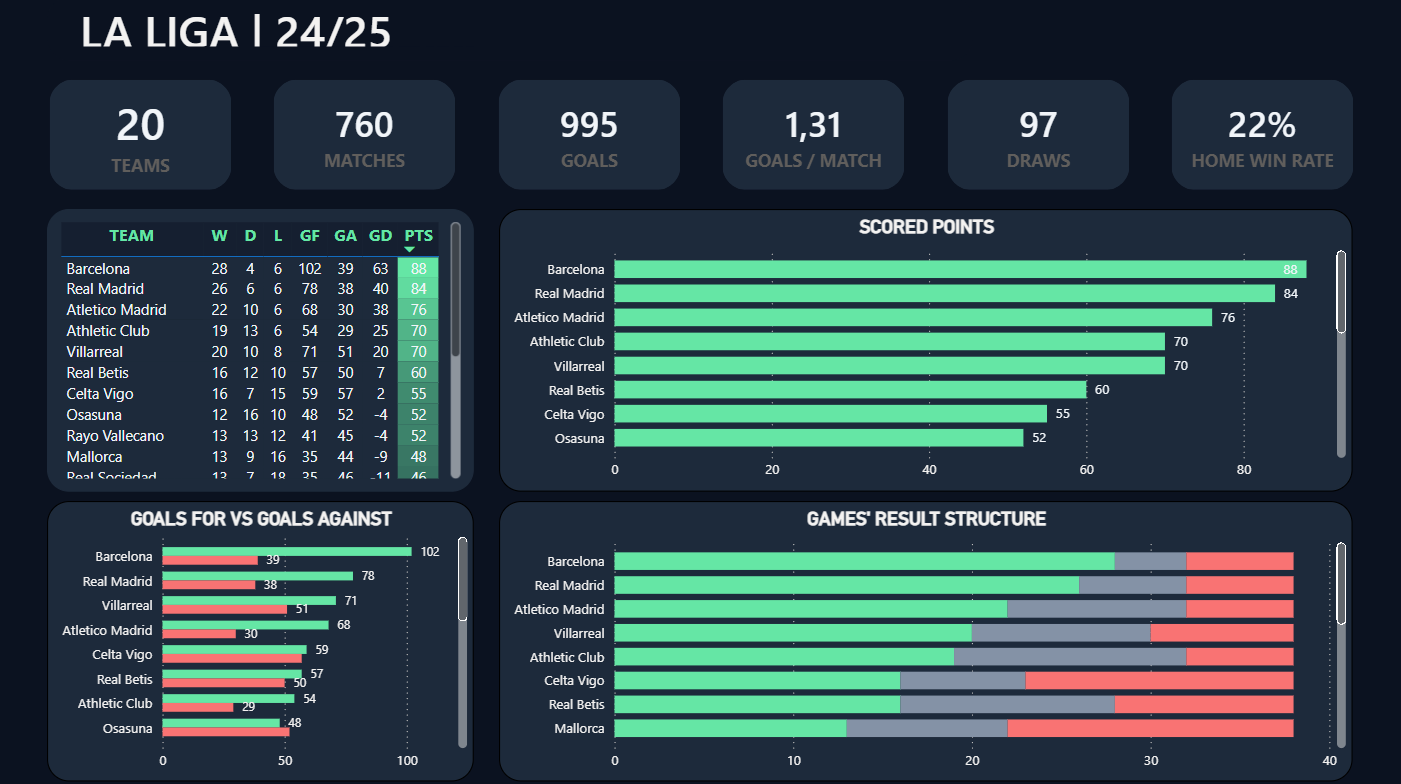

This screenshot's page, from the dashboard's own definition file:
{"tool":"powerbi","page":{"name":"League Overview","canvas":[1280,720],"ordinal":0},"visuals":[{"type":"cardVisual","fields":{"Data":["Miary.Total Teams"]},"box":[30.5,58.4,199.1,134.1],"z":0},{"type":"cardVisual","fields":{"Data":["Miary.Matches Played"]},"box":[234.7,58.4,199.1,134.1],"z":1000},{"type":"cardVisual","fields":{"Data":["Miary.Total Goals"]},"box":[438.8,58.4,199.1,134.1],"z":2000},{"type":"cardVisual","fields":{"Data":["Miary.Goals per Match"]},"box":[643,58.4,199.1,134.1],"z":3000},{"type":"tableEx","fields":{"Values":["public gold_team_stats.team_name","Sum(public gold_team_stats.wins)","Sum(public gold_team_stats.draws)","Sum(public gold_team_stats.losses)","Sum(public gold_team_stats.goals_for)","Sum(public gold_team_stats.goals_against)","Sum(public gold_team_stats.goal_difference)","Sum(public gold_team_stats.points)"]},"box":[45.4,192.4,387.9,256.5],"z":4000},{"type":"clusteredBarChart","title":"SCORED POINTS","fields":{"Category":["public gold_team_stats.team_name"],"Y":["Sum(public gold_team_stats.points)"]},"box":[456.7,192.4,775.8,256.5],"z":5000},{"type":"cardVisual","fields":{"Data":["Miary.Total Draws"]},"box":[847.1,58.4,199.1,134.1],"z":6000},{"type":"cardVisual","fields":{"Data":["Miary.Home Win Rate"]},"box":[1051.3,58.4,199.1,134.1],"z":7000},{"type":"clusteredBarChart","title":"GOALS FOR vs GOALS AGAINST","fields":{"Category":["public gold_team_stats.team_name"],"Y":["Sum(public gold_team_stats.goals_for)","Sum(public gold_team_stats.goals_against)"]},"box":[45.4,458.3,387.9,255],"z":8000},{"type":"barChart","title":"GAMES'' RESULT STRUCTURE","fields":{"Category":["public gold_team_stats.team_name"],"Y":["Sum(public gold_team_stats.wins)","Sum(public gold_team_stats.draws)","Sum(public gold_team_stats.losses)"]},"box":[456.7,458.3,775.8,255],"z":9000},{"type":"cardVisual","fields":{"Data":["Miary.Dashboard Title"]},"box":[45,0,842,58],"z":10000}]}

Visuals, with their boxes in screenshot pixels (x1, y1, x2, y2), scaled from the page's 1280x720 canvas onto the 1401x784 screenshot:
cardVisual - Miary.Total Teams: 33:64:251:210
cardVisual - Miary.Matches Played: 257:64:475:210
cardVisual - Miary.Total Goals: 480:64:698:210
cardVisual - Miary.Goals per Match: 704:64:922:210
tableEx - public gold_team_stats.team_name x Sum(public gold_team_stats.wins): 50:210:474:489
"SCORED POINTS" clusteredBarChart: 500:210:1349:489
cardVisual - Miary.Total Draws: 927:64:1145:210
cardVisual - Miary.Home Win Rate: 1151:64:1369:210
"GOALS FOR vs GOALS AGAINST" clusteredBarChart: 50:499:474:777
"GAMES'' RESULT STRUCTURE" barChart: 500:499:1349:777
cardVisual - Miary.Dashboard Title: 49:0:971:63
